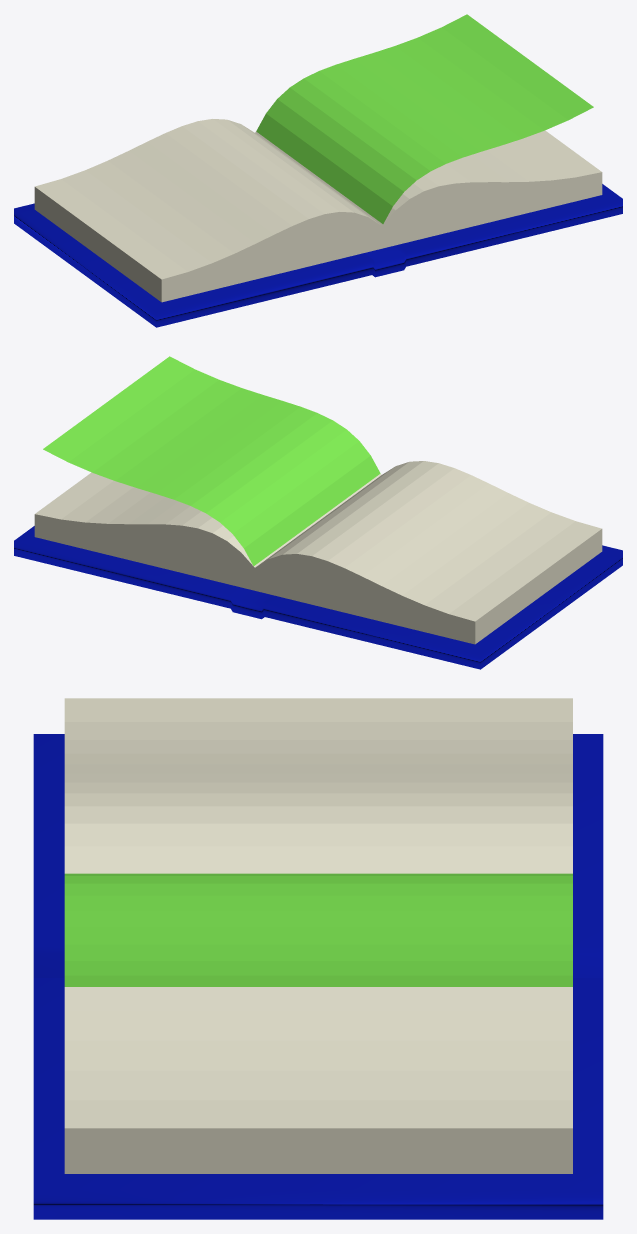
3 views of the same model, one above another, from view 1: azimuth 30°, elevation 25°; view 2: azimuth 150°, elevation 25°; view 3: azimuth 270°, elevation 25° (orthographic). The views are drawn at different scales.
Visible parts, largest first — view 1: ベジエカーブ, Paper, 立方体, ベジエカーブ.001; view 2: ベジエカーブ, Paper, 立方体, ベジエカーブ.001; view 3: ベジエカーブ.001, ベジエカーブ, Paper, 立方体.
Part boxes in pixels (x1,y1,x2,y2): ベジエカーブ: (34,119,381,302); Paper: (256,14,593,223); 立方体: (14,184,622,327); ベジエカーブ.001: (255,130,602,248); ベジエカーブ: (255,461,602,644); Paper: (43,356,380,566); 立方体: (14,526,622,669); ベジエカーブ.001: (34,472,381,590); ベジエカーブ.001: (64,987,572,1173); ベジエカーブ: (64,698,572,873); Paper: (64,873,572,986); 立方体: (33,734,603,1219).
Size of the model in its own units: 424 by 94.67 by 224.
